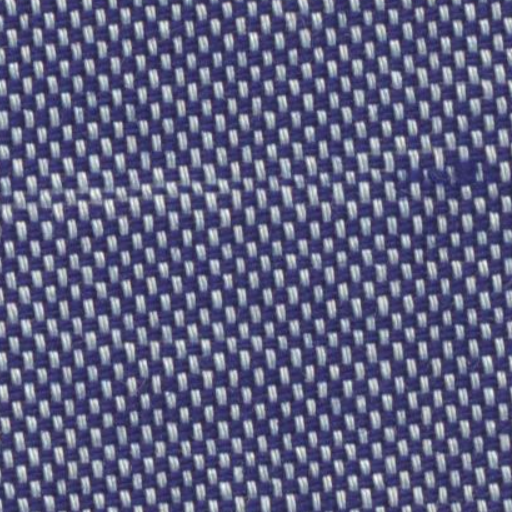TuoSha: (8, 131, 496, 246)
